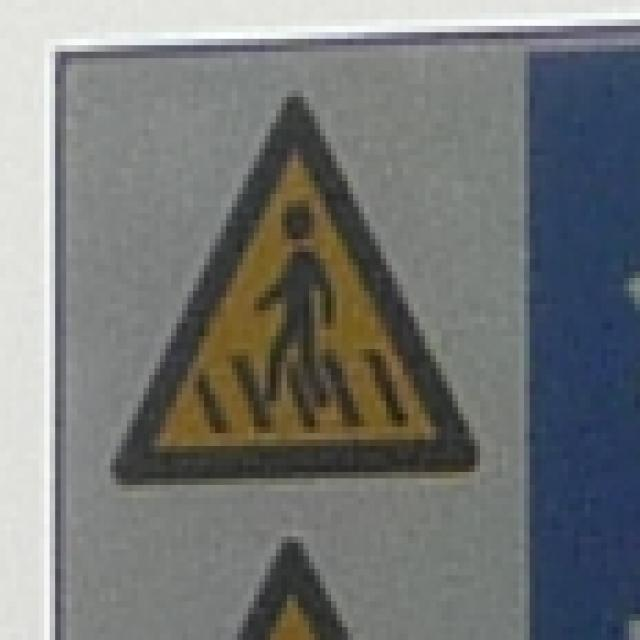Crossing: (106, 90, 481, 487)
